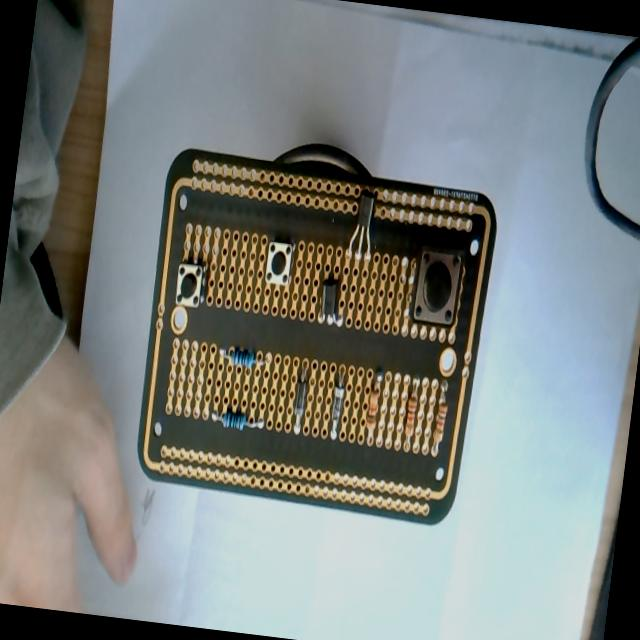diode: (290, 361, 310, 435), (328, 372, 347, 439)
resistor: (395, 384, 426, 459), (428, 381, 454, 458), (364, 370, 384, 443), (218, 344, 268, 370), (220, 408, 247, 431)
switch: (409, 245, 463, 328), (173, 261, 206, 309), (264, 240, 294, 286)
transistor: (342, 190, 386, 267), (315, 274, 359, 334)
